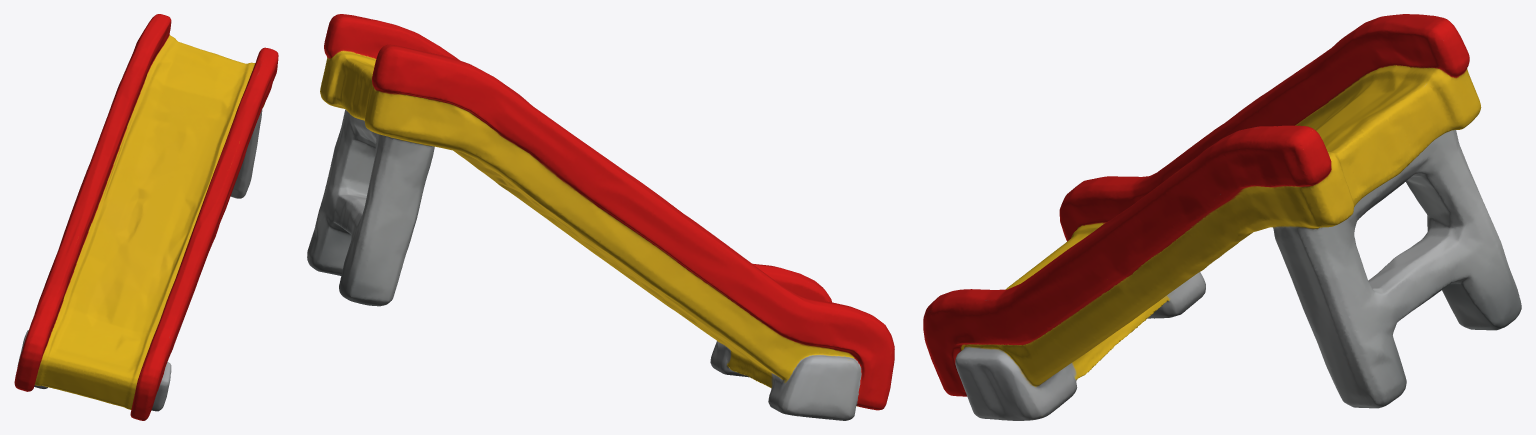
The model's file is slide.glb.
3 views of the same model, side by side, from view 1: azimuth 30°, elevation 25°; view 2: azimuth 150°, elevation 25°; view 3: azimuth 270°, elevation 25° (orthographic). The views are drawn at different scales.
Size of the model in its own units: 0.8831 by 0.7313 by 0.7766.
1 material, 1 textured.
